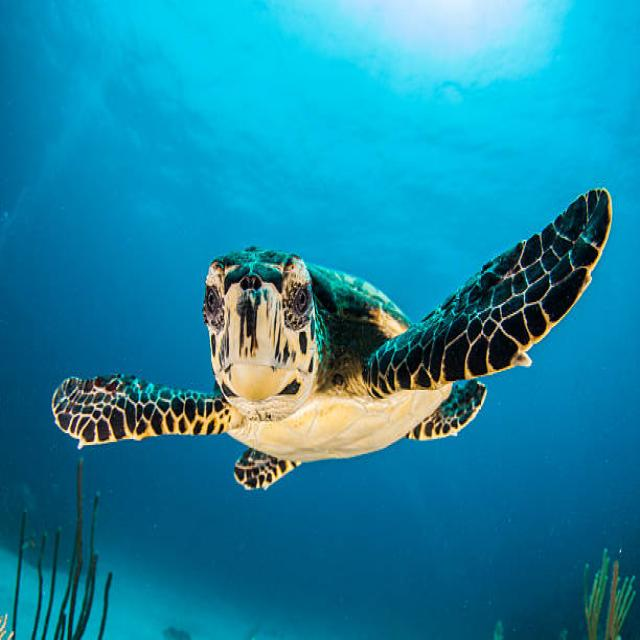sea turtle: (376, 165, 625, 397), (202, 352, 511, 523), (253, 195, 440, 409), (199, 218, 318, 425), (45, 352, 211, 456)
